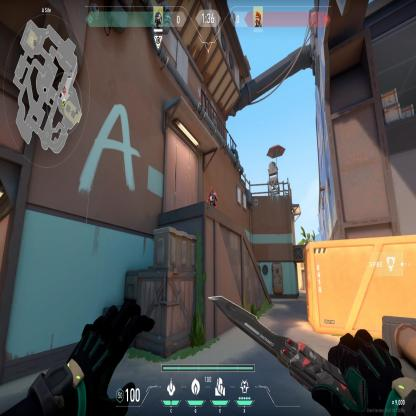enemy: (207, 184, 218, 209)
